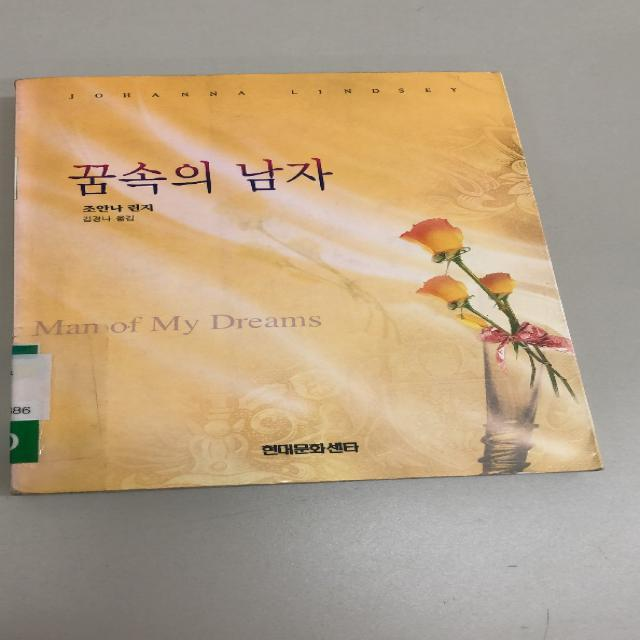Ripped: (8, 151, 24, 204)
Wornout: (375, 463, 610, 484), (145, 477, 375, 494), (336, 64, 510, 84), (114, 69, 246, 86), (4, 484, 141, 497), (8, 73, 64, 91)
